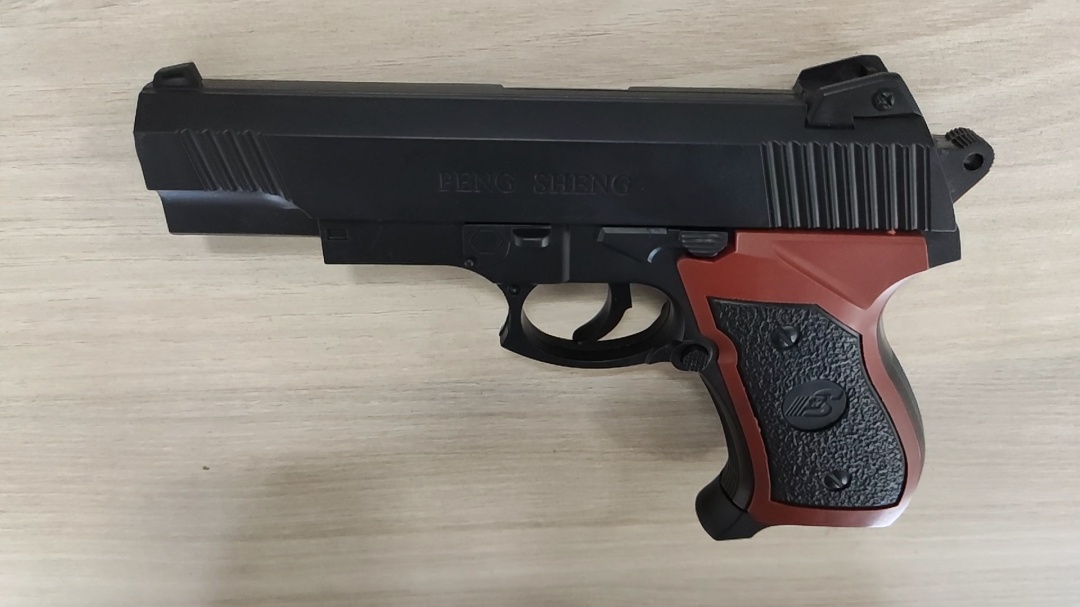gunw: (131, 48, 994, 543)
